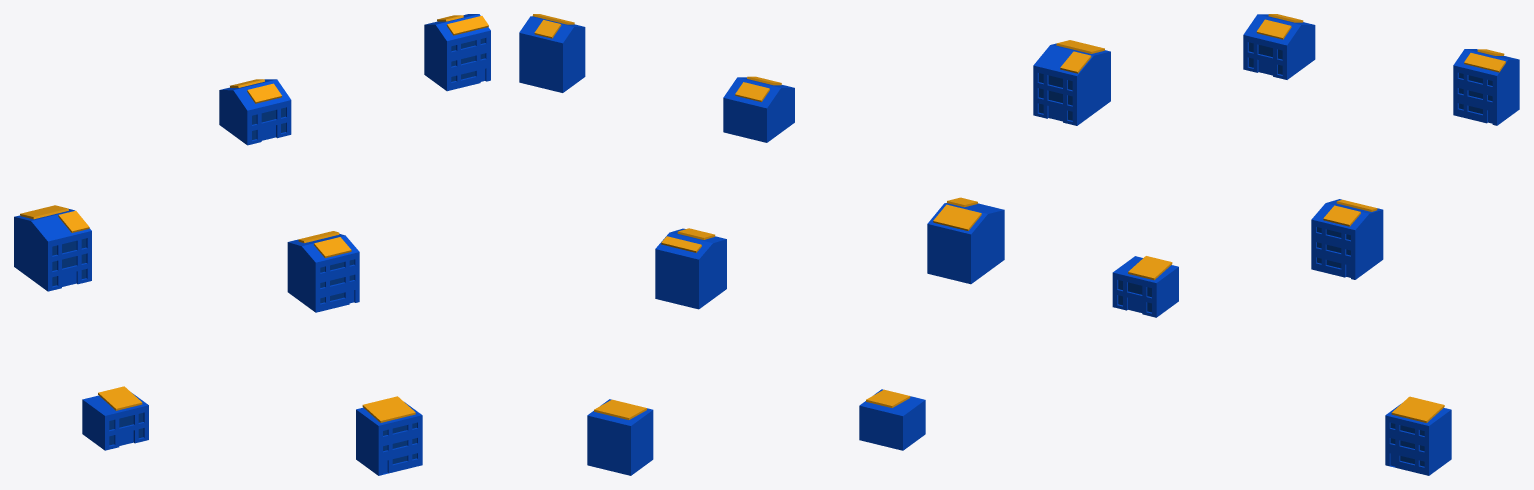
The model's file is BinaGrup2.gltf.
3 views of the same model, side by side, from view 1: azimuth 30°, elevation 25°; view 2: azimuth 150°, elevation 25°; view 3: azimuth 330°, elevation 25° (orthographic).
Parts seen in each view (by area): view 1: Building_022.003, Building_051.003, Building_063.003, Building_060.003, Building_042.003, Building_031.003, Building_060_RoofCap_0.001, Building_031_RoofCap_0.001, Building_022.005, Building_051_RoofCap_0.001, Building_063_RoofCap_0.001; view 2: Building_022.003, Building_051.003, Building_063.003, Building_060.003, Building_042.003, Building_031.003, Building_022_RoofCap_1.001, Building_060_RoofCap_0.001; view 3: Building_022.003, Building_051.003, Building_063.003, Building_060.003, Building_042.003, Building_031.003, Building_060_RoofCap_0.001, Building_031_RoofCap_0.001, Building_022.005, Building_051_RoofCap_0.001.
Boxes of the visible parts, x1,y1,x2,y2 form: Building_022.003: [14, 209, 91, 291]; Building_051.003: [287, 233, 359, 312]; Building_063.003: [424, 14, 490, 91]; Building_060.003: [356, 402, 422, 475]; Building_042.003: [219, 79, 291, 145]; Building_031.003: [82, 392, 148, 450]; Building_060_RoofCap_0.001: [362, 396, 415, 422]; Building_031_RoofCap_0.001: [98, 386, 142, 410]; Building_022.005: [52, 238, 86, 286]; Building_051_RoofCap_0.001: [314, 237, 351, 258]; Building_063_RoofCap_0.001: [446, 16, 488, 35]; Building_022.003: [927, 203, 1004, 284]; Building_051.003: [655, 228, 726, 309]; Building_063.003: [519, 16, 585, 92]; Building_060.003: [587, 399, 653, 475]; Building_042.003: [723, 77, 794, 142]; Building_031.003: [859, 389, 925, 450]; Building_022_RoofCap_1.001: [933, 204, 981, 230]; Building_060_RoofCap_0.001: [594, 399, 646, 419]; Building_022.003: [1033, 43, 1110, 125]; Building_051.003: [1311, 199, 1383, 279]; Building_063.003: [1453, 49, 1519, 125]; Building_060.003: [1385, 404, 1451, 475]; Building_042.003: [1243, 14, 1315, 79]; Building_031.003: [1112, 256, 1178, 317]; Building_060_RoofCap_0.001: [1391, 396, 1444, 422]; Building_031_RoofCap_0.001: [1128, 256, 1172, 280]; Building_022.005: [1039, 73, 1072, 120]; Building_051_RoofCap_0.001: [1323, 205, 1360, 226].
Size of the model in its own units: 0.5054 by 0.4546 by 0.0652.
